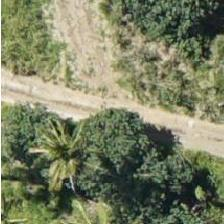Kelapa_Sawit: (22, 119, 112, 209), (0, 12, 49, 102)
